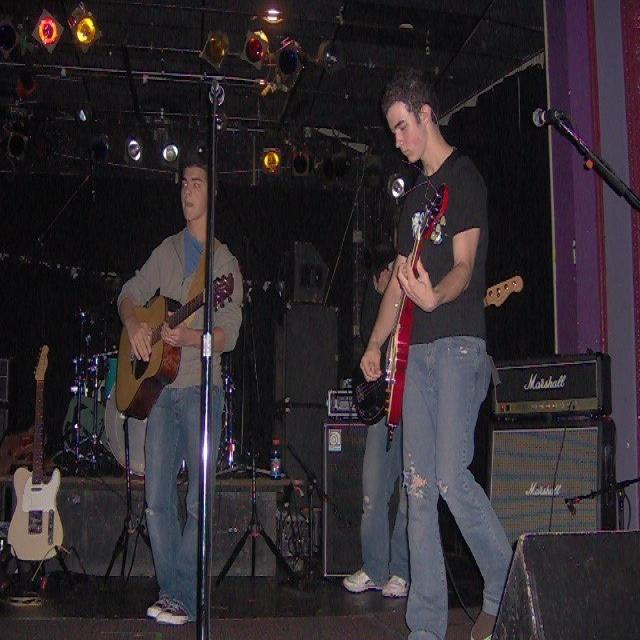drums: (70, 296, 244, 481)
guitar: (113, 268, 235, 419), (382, 181, 446, 430), (7, 341, 68, 566)
